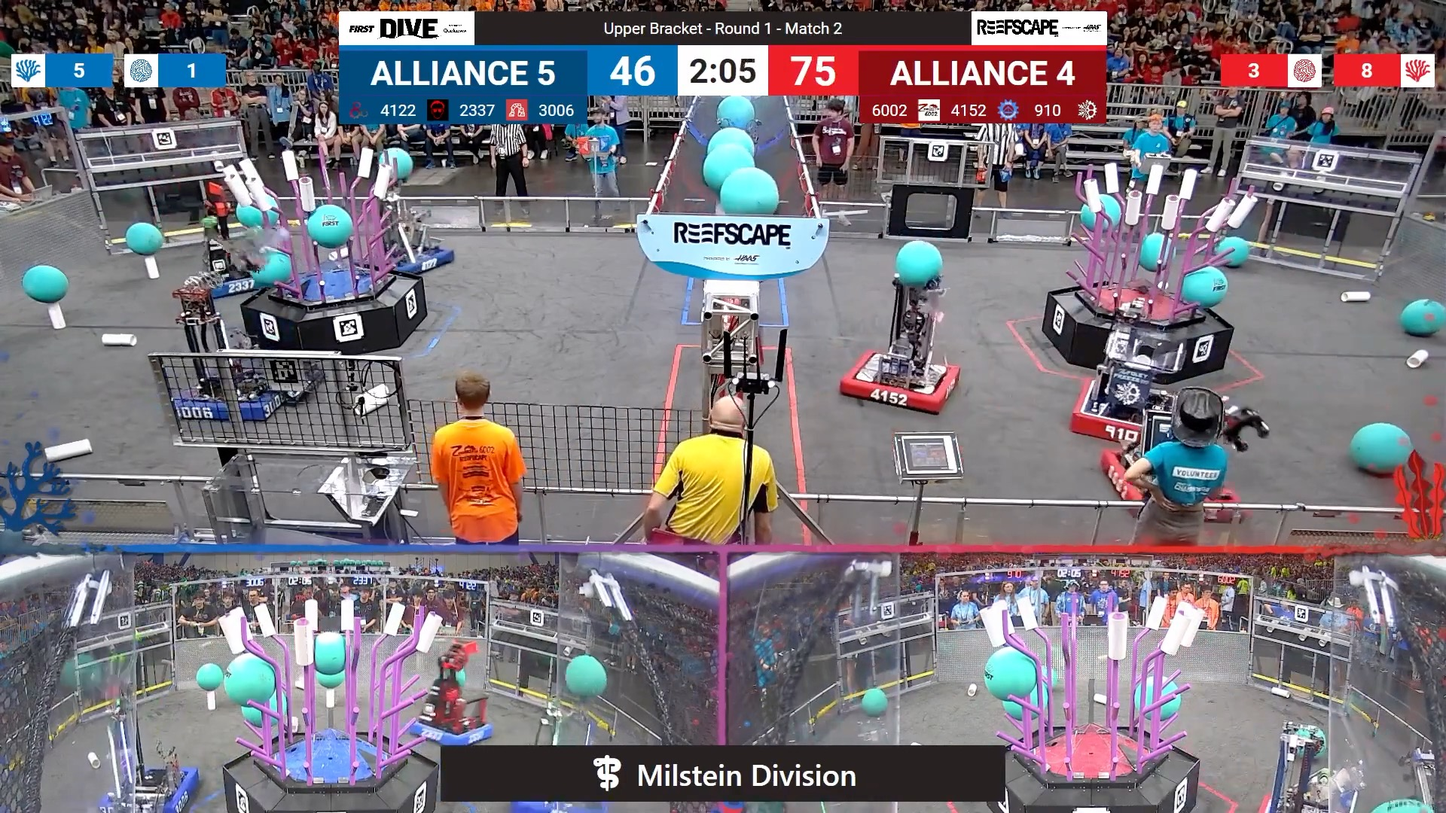bumpers: (832, 347, 967, 417), (1068, 379, 1173, 446), (167, 370, 284, 428), (90, 757, 203, 812), (397, 711, 503, 749), (369, 243, 460, 277), (170, 271, 266, 300), (1249, 787, 1356, 812)
